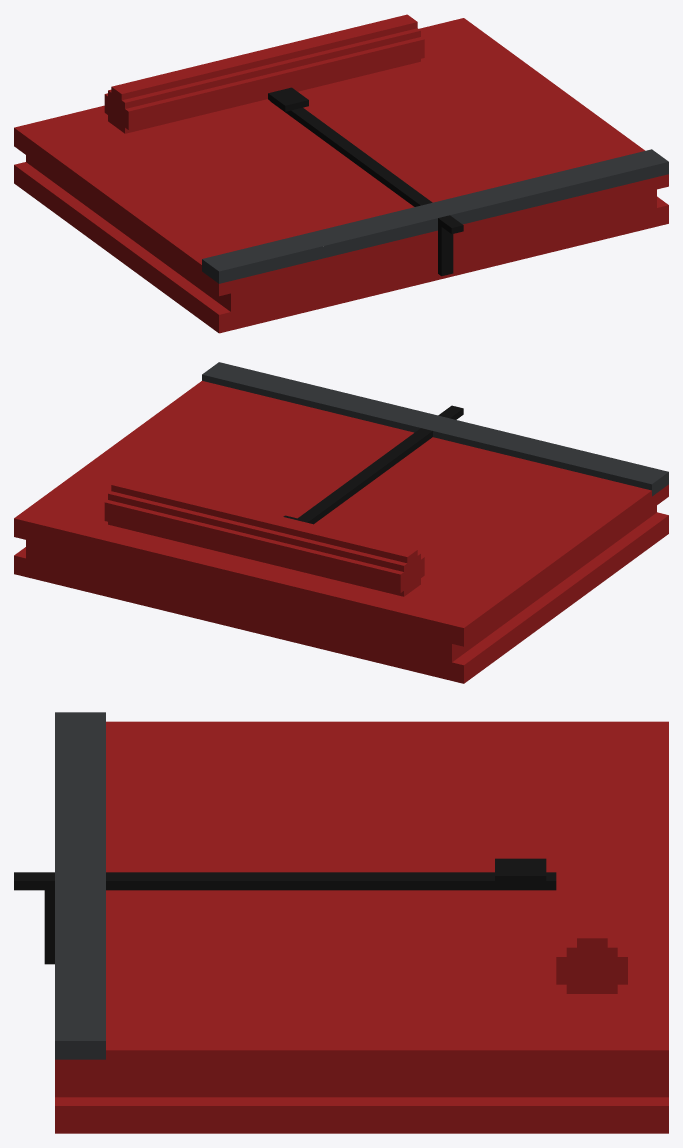
File: jacket_windbreaker.glb
3 renders of one model, top to bottom at view 1: azimuth 30°, elevation 25°; view 2: azimuth 150°, elevation 25°; view 3: azimuth 270°, elevation 25°, orthographic. The views are drawn at different scales.
Visible parts, largest first — view 1: jacket_windbreaker:compound; view 2: jacket_windbreaker:compound; view 3: jacket_windbreaker:compound.
Boxes of the visible parts, bbox=[...] form: jacket_windbreaker:compound: bbox=[14, 14, 668, 333]; jacket_windbreaker:compound: bbox=[14, 362, 668, 683]; jacket_windbreaker:compound: bbox=[14, 712, 668, 1133].
Bounding box in the file's own units: 0.304 × 0.06 × 0.256.
